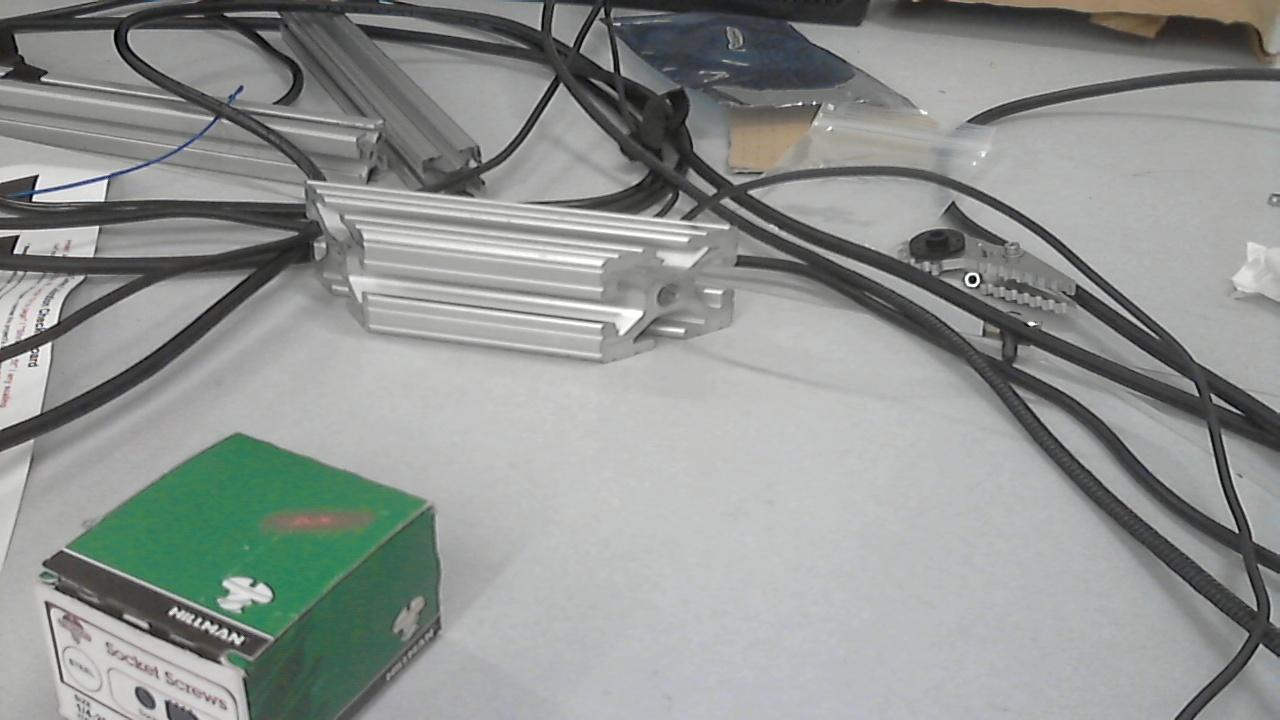Object screw packaging box - Material cardboard - Pdfname VgpKnmoKJfrS: (235, 481, 394, 549)
